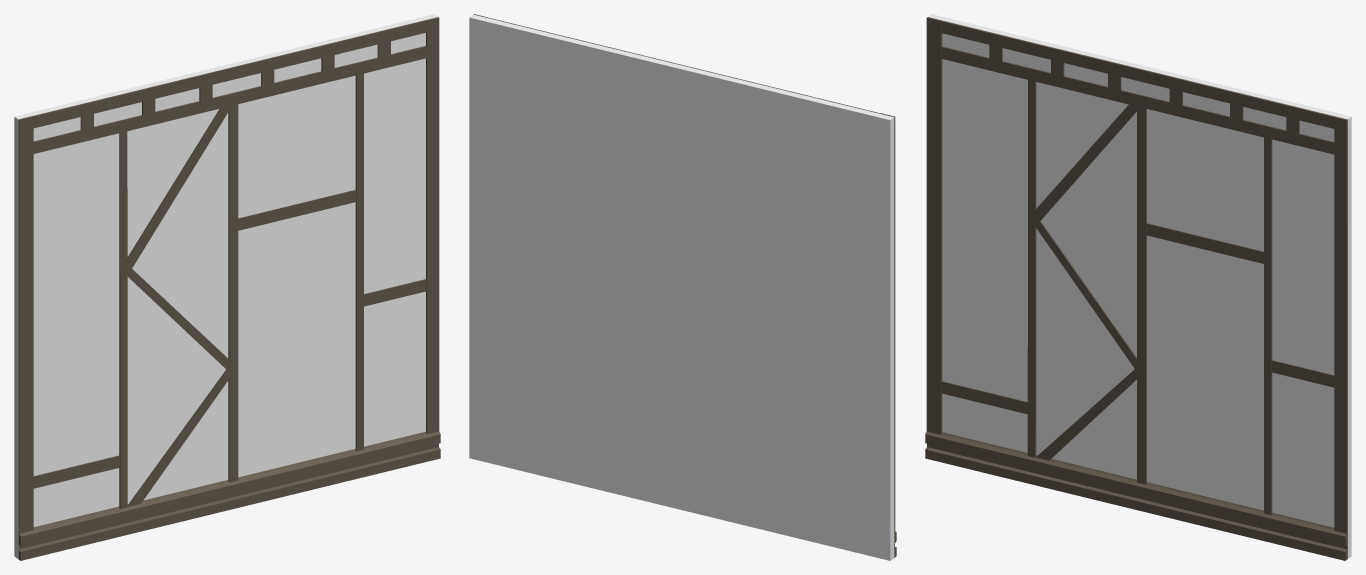
Rendered from WALL_05_1.fbx.
3 views of the same model, side by side, from view 1: azimuth 30°, elevation 25°; view 2: azimuth 150°, elevation 25°; view 3: azimuth 330°, elevation 25° (orthographic).
Parts seen in each view (by area): view 1: WALL_05_1; view 2: WALL_05_1; view 3: WALL_05_1.
Boxes of the visible parts, x1,y1,x2,y2 form: WALL_05_1: (14, 14, 440, 560); WALL_05_1: (469, 14, 896, 560); WALL_05_1: (925, 14, 1351, 560).
Size of the model in its own units: 300 by 300 by 8.
